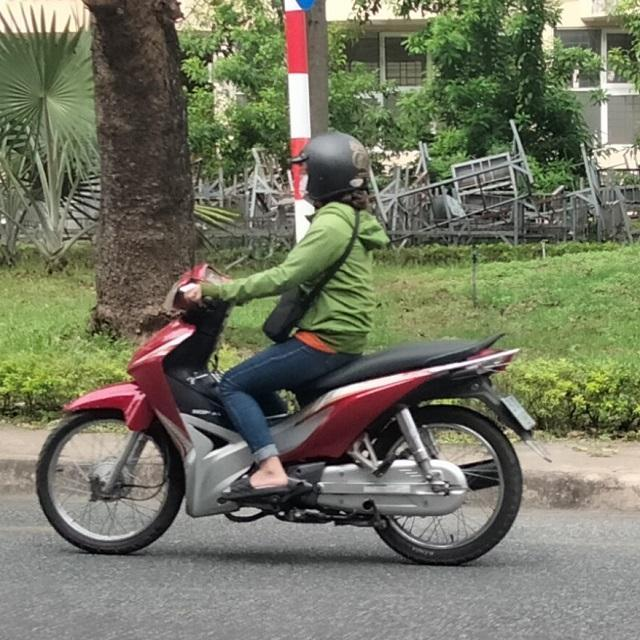Helmet: (296, 124, 368, 206)
